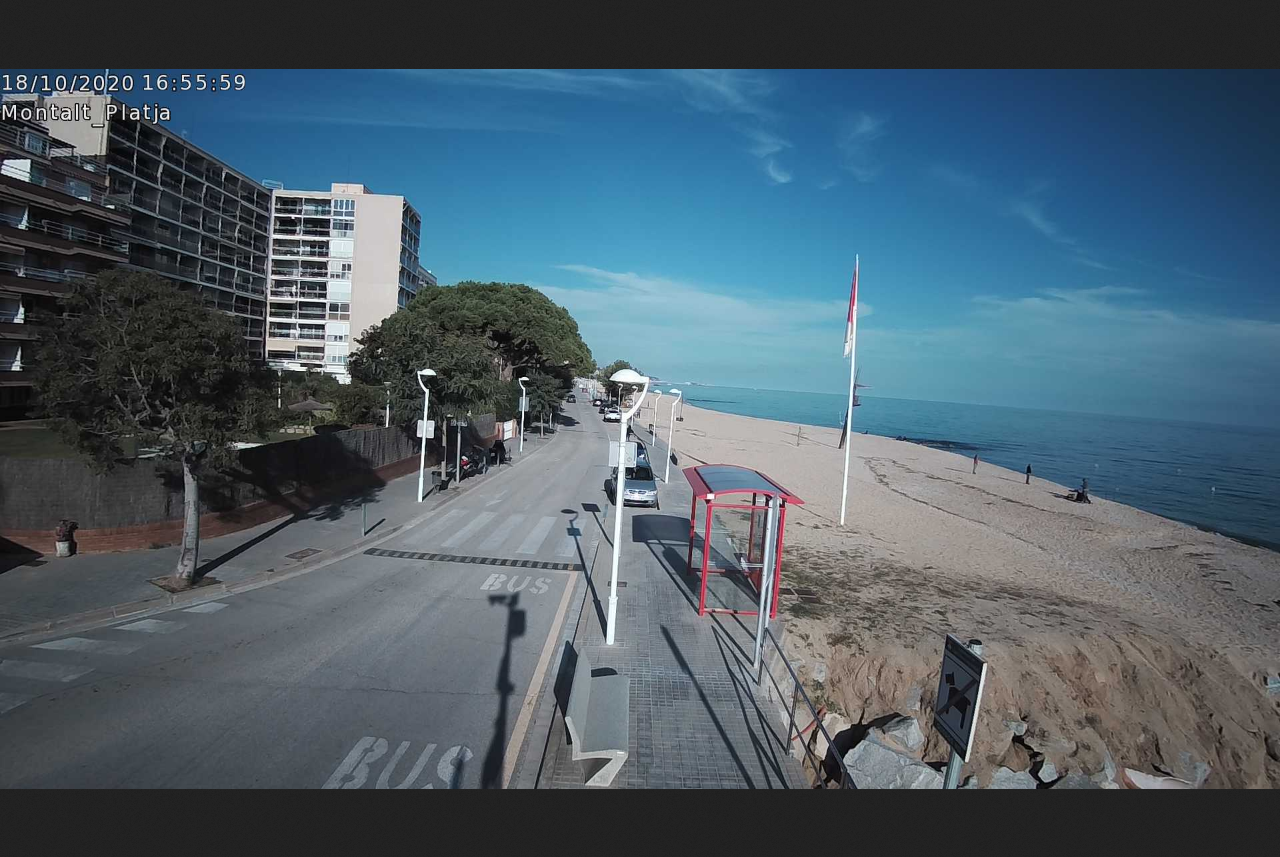no: (839, 250, 865, 367)
